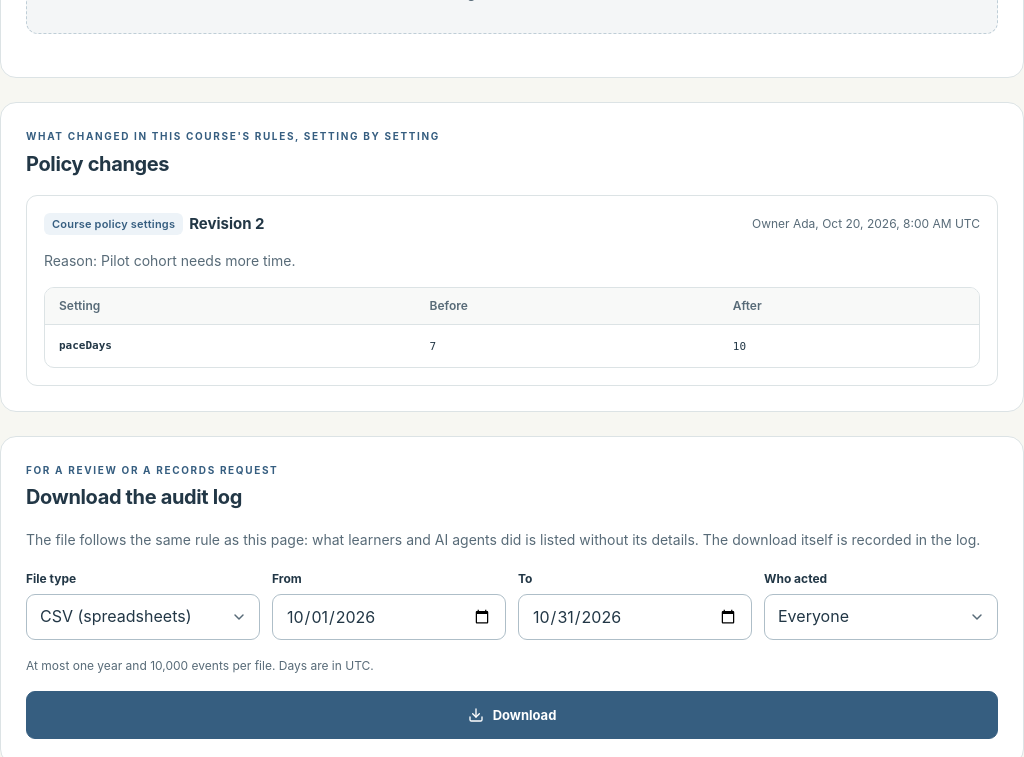
Test: audit export and policy history (Q12) › downloads the log as a file and shows policy changes as before and after
The width and height of the screenshot is (1024, 757).
(page scrolled)
Expected: the text "paceDays" is shown, [59,339,112,352]
Expected: the text "Pilot cohort needs more time." is shown, [101,252,295,269]
Select "JSON" in the dropdown labelled "File type": (143, 617) [26,594,260,640]
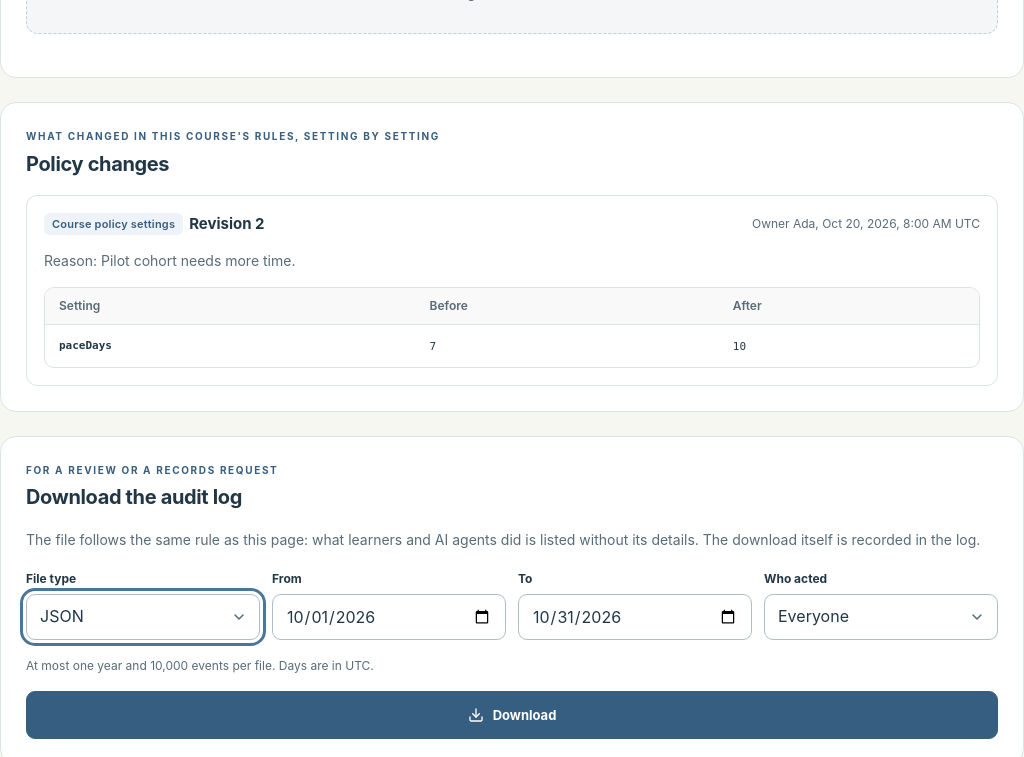
Click the button "Download": (512, 715) [26,691,998,739]
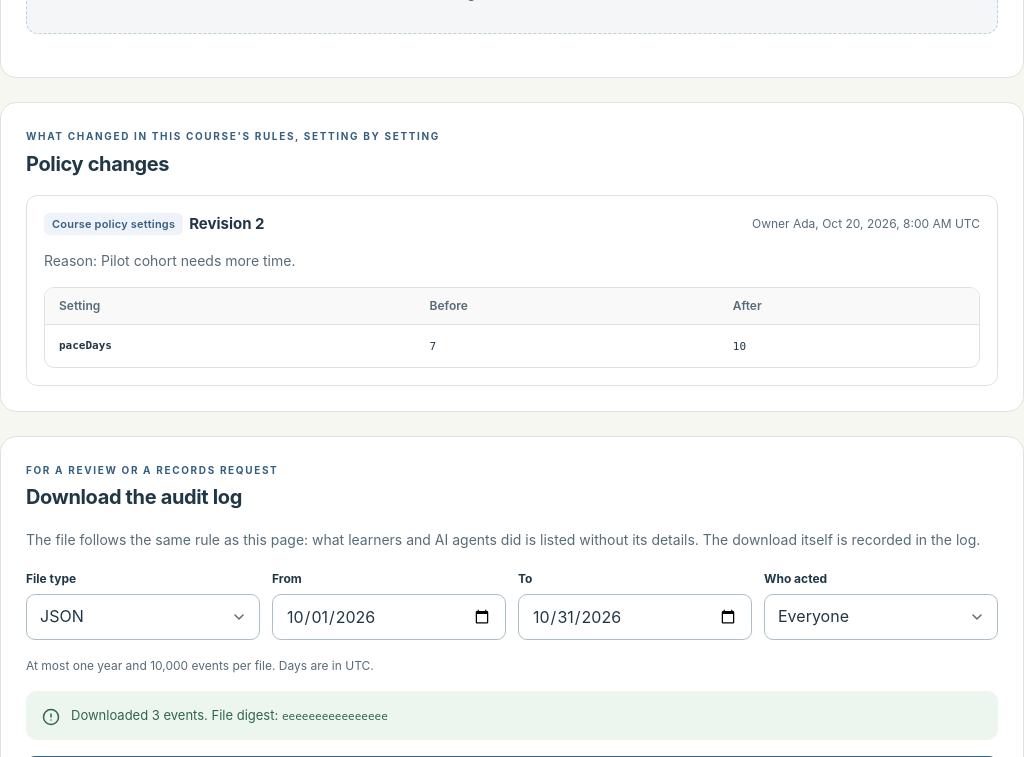
Now the text "Downloaded 3 events" is shown, box [71,707,278,723]
